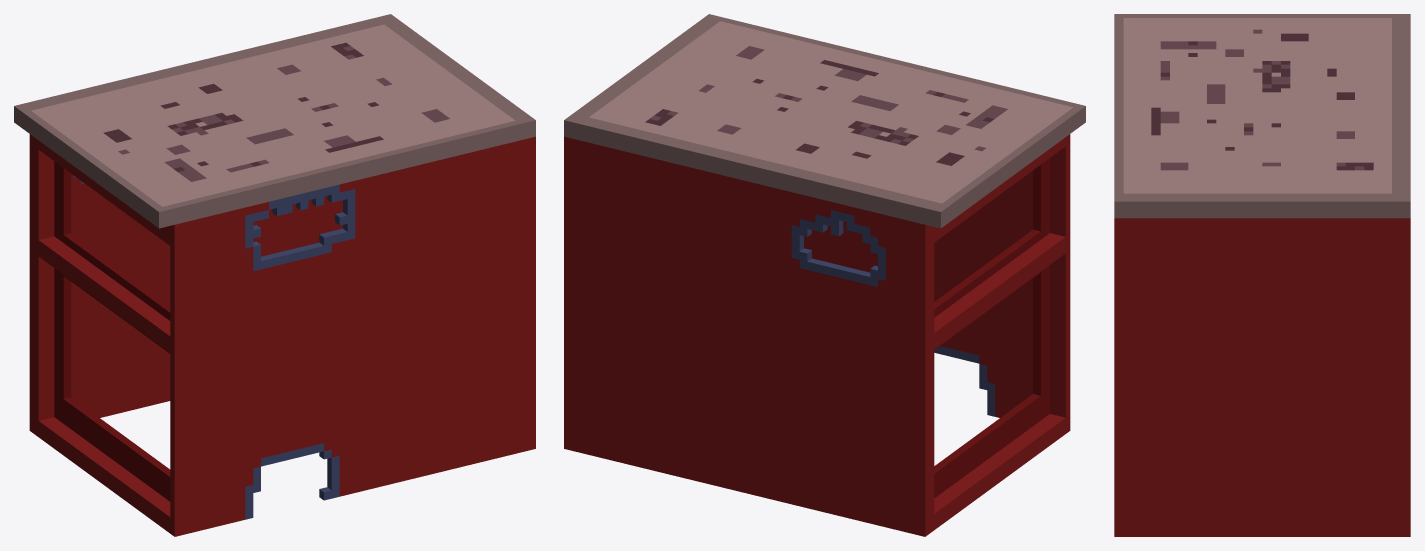
The model's file is BaseCajon2.fbx.
3 renders of one model, left to right at view 1: azimuth 30°, elevation 25°; view 2: azimuth 150°, elevation 25°; view 3: azimuth 270°, elevation 25°, orthographic. The views are drawn at different scales.
Visible parts, largest first — view 1: Base_Cajon_2; view 2: Base_Cajon_2; view 3: Base_Cajon_2.
Part boxes in pixels (x1,y1,x2,y2): Base_Cajon_2: (14,14,535,536); Base_Cajon_2: (564,14,1085,536); Base_Cajon_2: (1114,14,1410,536).
Bounding box in the file's own units: 480 × 400 × 320.
